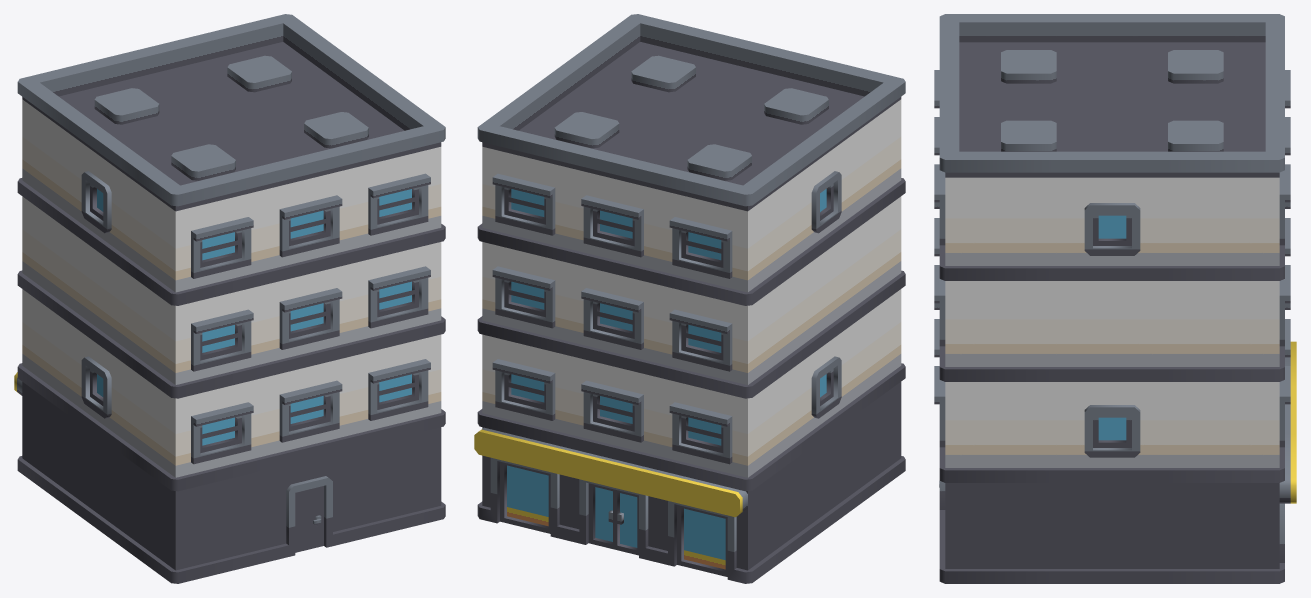
File: office-a.glb
3 views of the same model, side by side, from view 1: azimuth 30°, elevation 25°; view 2: azimuth 150°, elevation 25°; view 3: azimuth 270°, elevation 25° (orthographic). The views are drawn at different scales.
Visible parts, largest first — view 1: office-a; view 2: office-a; view 3: office-a.
Part boxes in pixels (box(x1,y1,x2,y2)): office-a: box(14, 14, 445, 583); office-a: box(474, 14, 905, 583); office-a: box(934, 14, 1296, 583).
Size of the model in its own units: 0.8096 by 1.1 by 0.85.
Materials: 1 (1 with a texture image).
